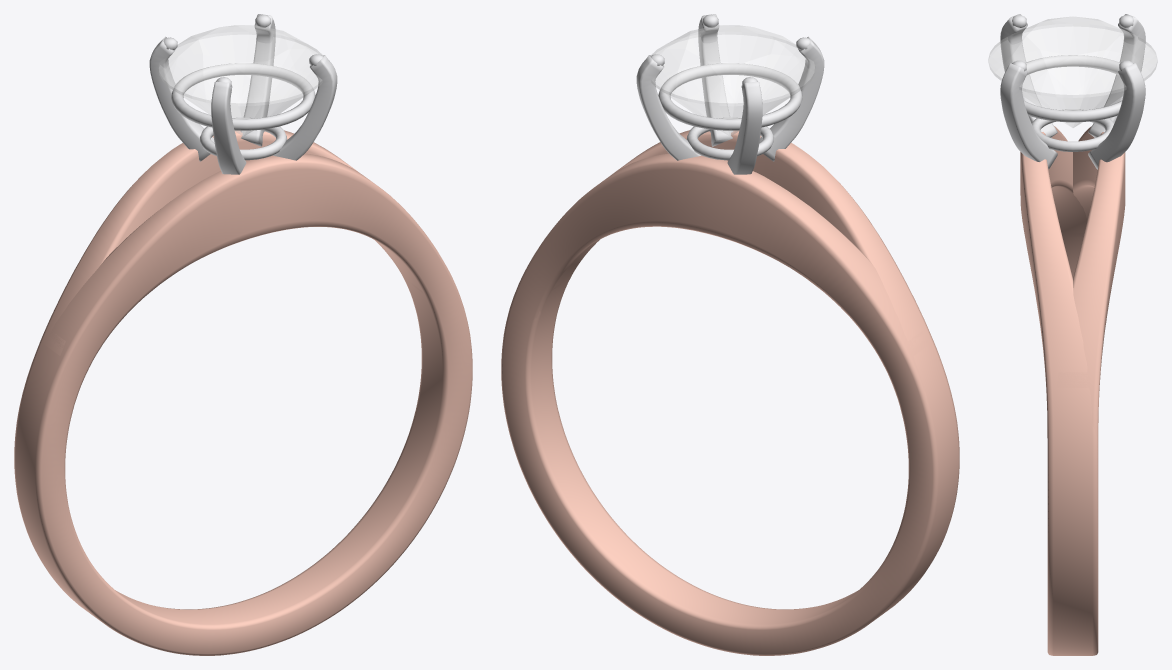
Rendered from ring-02.glb.
3 views of the same model, side by side, from view 1: azimuth 30°, elevation 25°; view 2: azimuth 150°, elevation 25°; view 3: azimuth 270°, elevation 25° (orthographic).
Visible parts, largest first — view 1: Ring_02_Rail_F, Ring_02_Rail_B, Ring_02_Head, Ring_02_Diamond; view 2: Ring_02_Rail_B, Ring_02_Rail_F, Ring_02_Head, Ring_02_Diamond; view 3: Ring_02_Rail_F, Ring_02_Rail_B, Ring_02_Head, Ring_02_Diamond.
Part boxes in pixels (x1=…): Ring_02_Rail_F: x1=14, y1=153, x2=472, y2=655; Ring_02_Rail_B: x1=15, y1=130, x2=470, y2=653; Ring_02_Head: x1=149, y1=14, x2=337, y2=174; Ring_02_Diamond: x1=159, y1=25, x2=322, y2=136; Ring_02_Rail_B: x1=503, y1=153, x2=958, y2=653; Ring_02_Rail_F: x1=501, y1=130, x2=959, y2=655; Ring_02_Head: x1=636, y1=14, x2=824, y2=174; Ring_02_Diamond: x1=651, y1=25, x2=814, y2=136; Ring_02_Rail_F: x1=1020, y1=126, x2=1098, y2=655; Ring_02_Rail_B: x1=1053, y1=126, x2=1125, y2=655; Ring_02_Head: x1=1000, y1=14, x2=1145, y2=169; Ring_02_Diamond: x1=988, y1=16, x2=1157, y2=127.
Size of the model in its own units: 1.96 by 2.56 by 0.6602.
